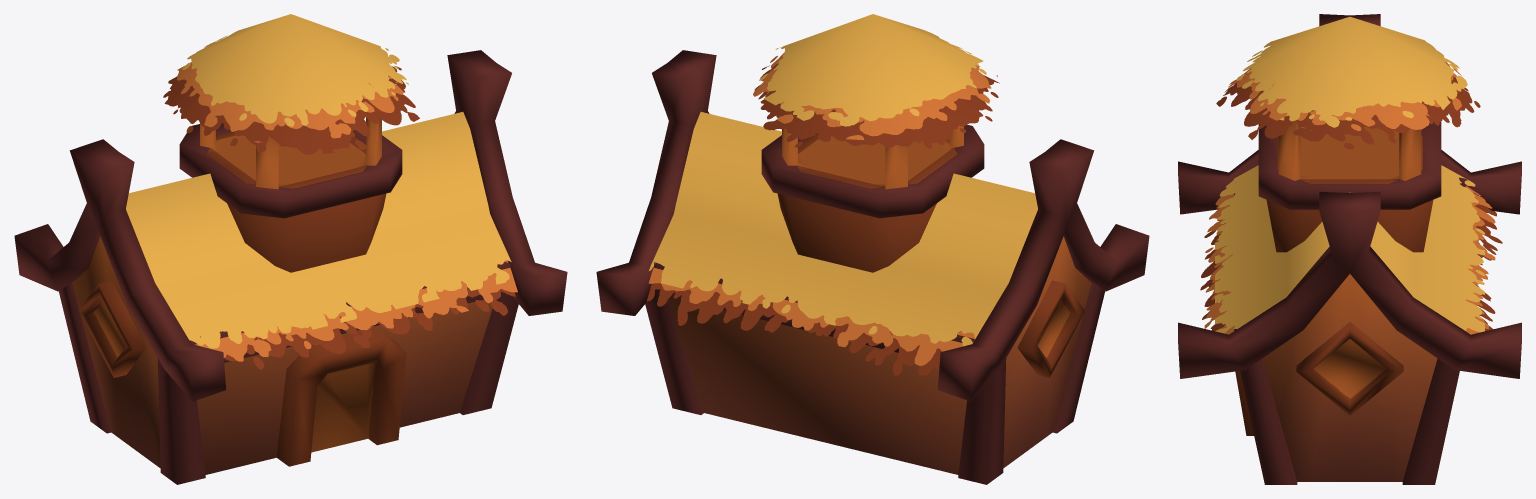
File: HomeBase.fbx
3 renders of one model, left to right at view 1: azimuth 30°, elevation 25°; view 2: azimuth 150°, elevation 25°; view 3: azimuth 270°, elevation 25°, orthographic.
Visible parts, largest first — view 1: HOUSE; view 2: HOUSE; view 3: HOUSE.
Part boxes in pixels (box(x1,y1,x2,y2)): HOUSE: box(14, 14, 567, 484); HOUSE: box(596, 14, 1149, 484); HOUSE: box(1178, 14, 1521, 484).
Size of the model in its own units: 5.57 by 5.18 by 4.11.
